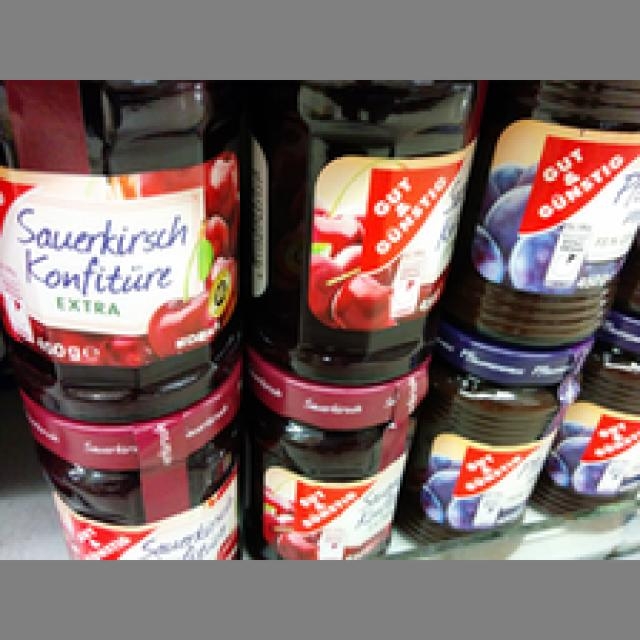groceries: (0, 80, 251, 420), (240, 80, 480, 380), (440, 77, 634, 343), (397, 320, 589, 546), (17, 374, 246, 557), (237, 352, 426, 557)
